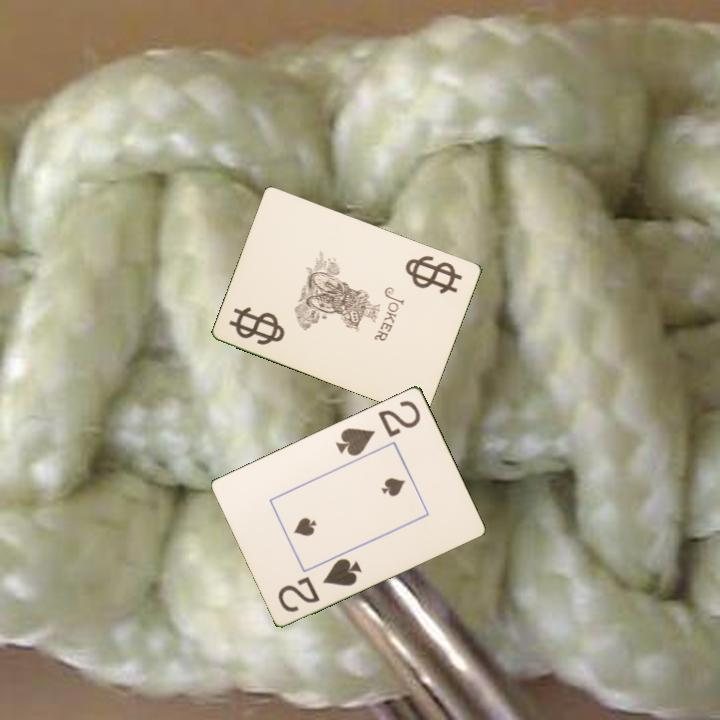2s: (332, 396, 424, 459), (274, 554, 365, 615)
JK: (226, 304, 288, 348), (406, 258, 455, 288)
